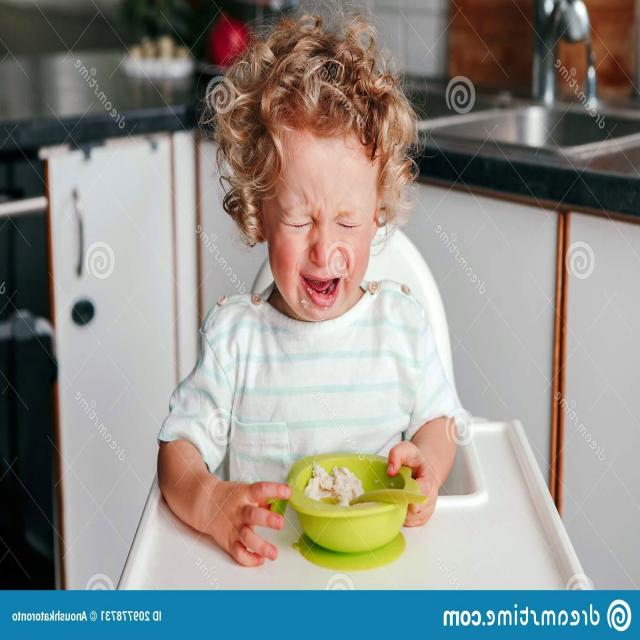child: (156, 22, 461, 560)
